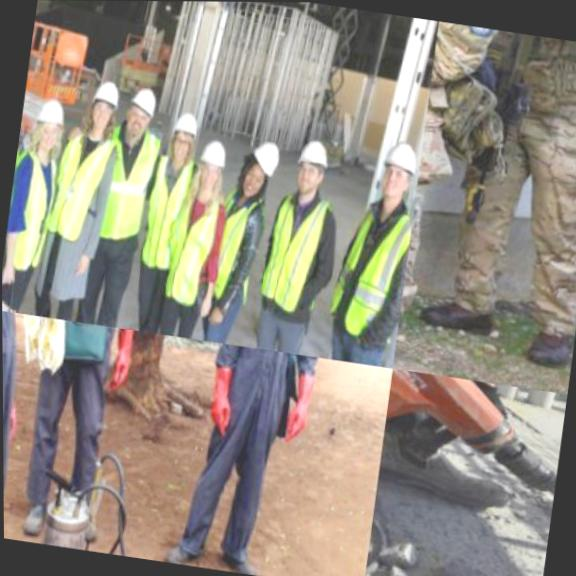safety_vest: (322, 187, 416, 350), (253, 183, 338, 327), (86, 119, 166, 254), (1, 138, 69, 285), (42, 122, 118, 251), (154, 185, 228, 316), (134, 149, 202, 279), (201, 181, 266, 311), (483, 30, 576, 108)
